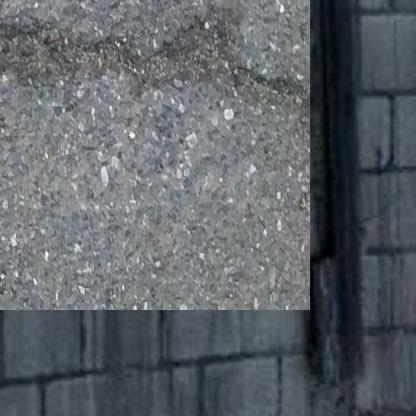Cracks: (0, 7, 286, 112)
